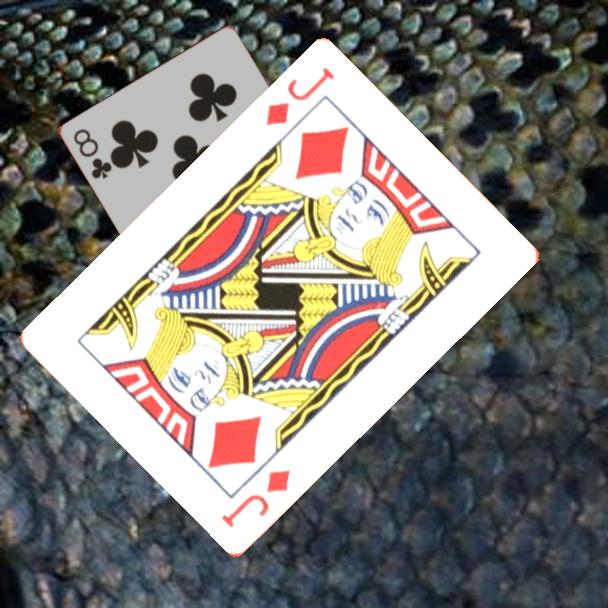c08: (70, 125, 115, 182)
d11: (262, 64, 338, 130), (217, 467, 293, 532)
